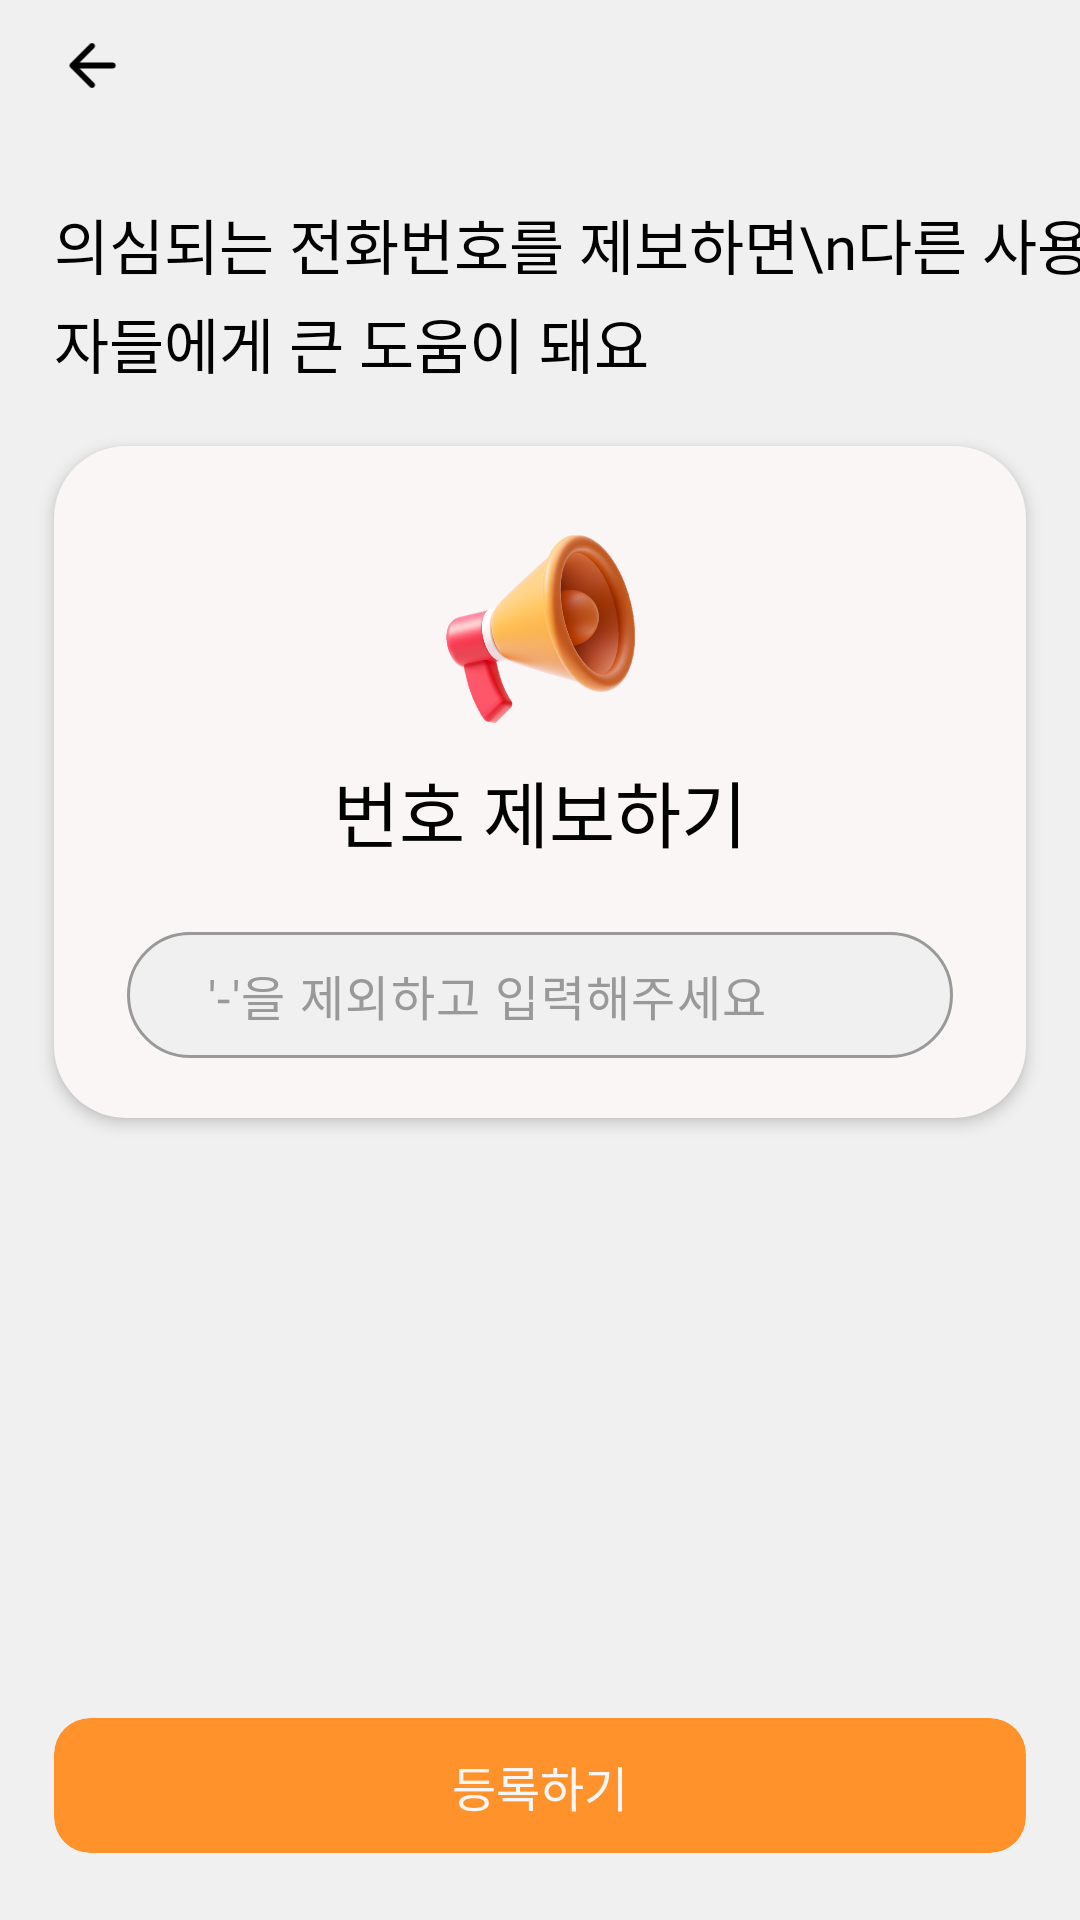

Locate icon controls on the screen. Image size 1080*1920, boxes as (x1, y1, x2, y2).
arrow back: (69, 43, 116, 88)
